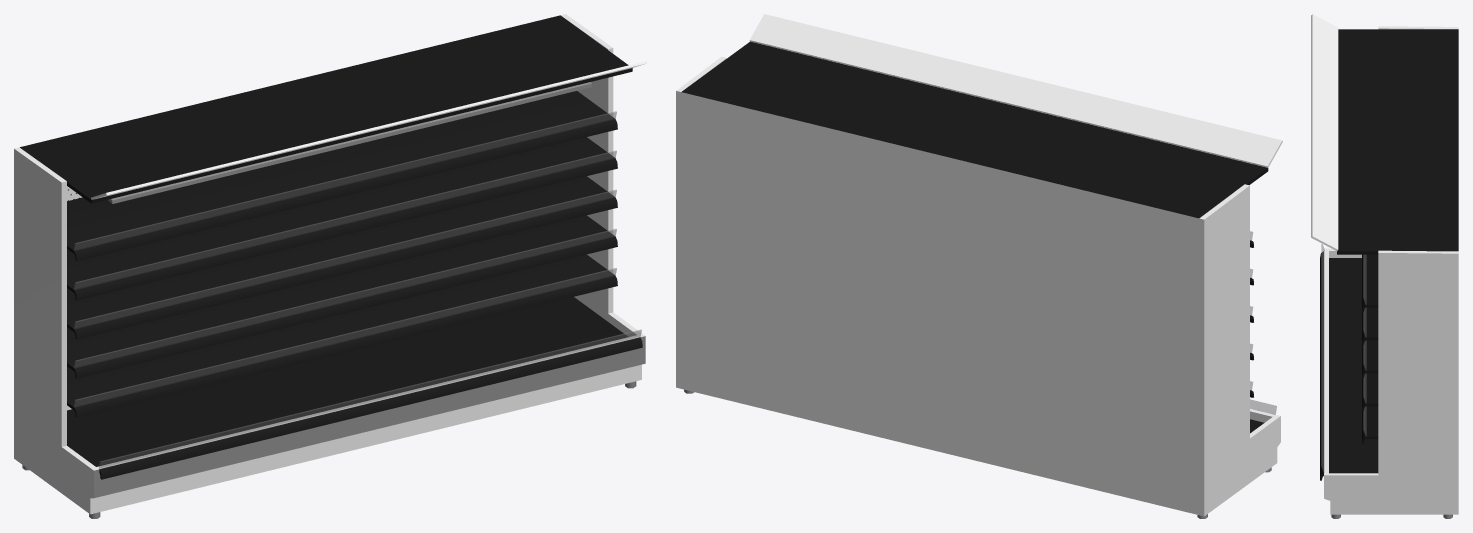
File: ray_store_dairy.FBX
The picture shows the model from 3 angles, left to right: view 1: azimuth 30°, elevation 25°; view 2: azimuth 150°, elevation 25°; view 3: azimuth 270°, elevation 25°; orthographic projection. The views are drawn at different scales.
Visible parts, largest first — view 1: ray_store_dairy_001; view 2: ray_store_dairy_001; view 3: ray_store_dairy_001.
Part boxes in pixels (<box>): ray_store_dairy_001: <box>14,14,647,518</box>; ray_store_dairy_001: <box>676,14,1282,518</box>; ray_store_dairy_001: <box>1311,14,1458,518</box>.
Size of the model in its own units: 4.15 by 2.41 by 1.14.
